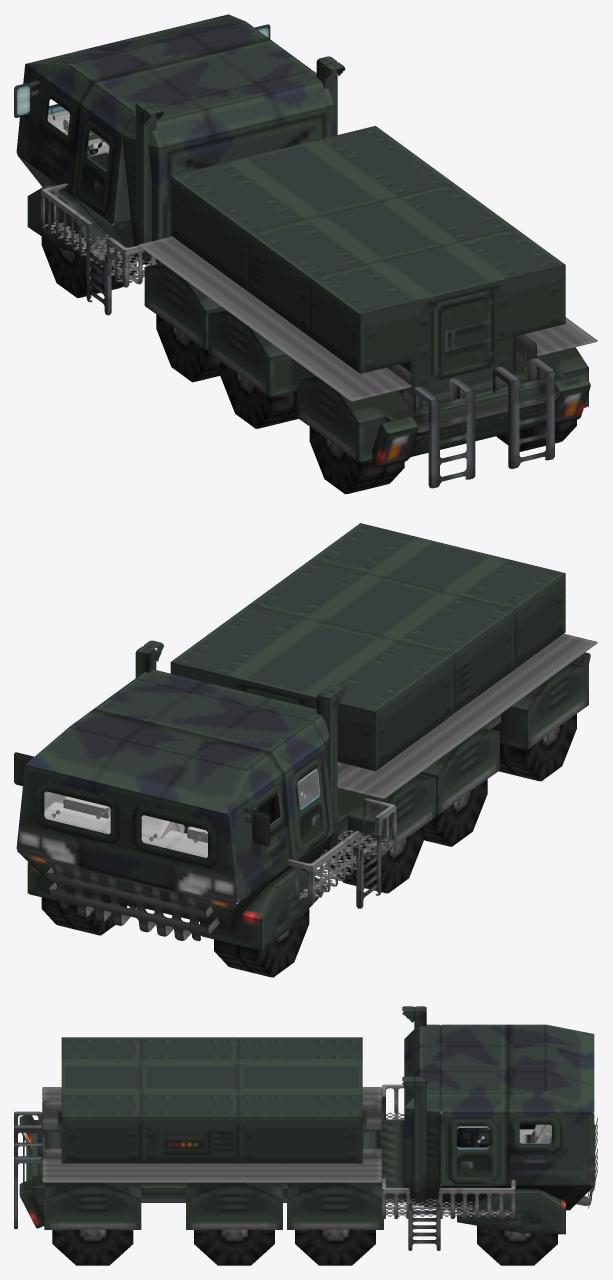
The model's file is armored_truck.obj.
3 views of the same model, one above another, from view 1: azimuth 30°, elevation 25°; view 2: azimuth 150°, elevation 25°; view 3: azimuth 270°, elevation 25° (orthographic). The views are drawn at different scales.
Visible parts, largest first — view 1: cube40, cube76, cube33, cube59, cube60, cube72, cube20, cylinder63, cylinder62, cylinder61, cube22, cube21 (+19 smaller); view 2: cube40, cube76, cube72, cube33, cube18, cylinder63, cylinder70, cylinder61, cube49, cylinder62, cube6, cube60 (+17 smaller); view 3: cube40, cube76, cube72, cube32, cylinder64, cylinder65, cylinder66, cube12, cylinder69, cube60, cylinder54, cylinder51 (+19 smaller).
Boxes of the visible parts, x1,y1,x2,y2 form: cube40: (170,126,565,373); cube76: (26,14,312,133); cube33: (138,236,411,401); cube59: (122,104,335,264); cube60: (123,70,334,148); cube72: (16,64,130,224); cube20: (372,374,590,467); cylinder63: (297,375,410,462); cylinder62: (208,309,305,396); cylinder61: (144,263,224,350); cube22: (413,377,475,488); cube21: (493,358,554,468); cube40: (170,523,565,771); cube76: (25,678,324,813); cube72: (16,743,333,903); cube33: (337,633,597,798); cube18: (47,862,219,940); cylinder63: (491,662,588,749); cylinder70: (200,867,327,950); cylinder61: (337,774,435,860); cube49: (17,834,333,929); cylinder62: (419,727,499,814); cube6: (286,798,396,903); cube60: (136,669,329,742); cube40: (61,1037,362,1163); cube76: (440,1024,594,1112); cube72: (440,1092,594,1185); cube32: (42,1158,381,1182); cylinder64: (44,1182,141,1229); cylinder65: (186,1182,282,1229); cylinder66: (287,1178,383,1229); cube12: (32,1120,404,1202); cylinder69: (457,1189,565,1234); cube60: (404,1024,440,1112); cylinder54: (52,1229,133,1265); cylinder51: (194,1229,274,1265).
Bounding box in the file's own units: 4.84 × 3.83 × 11.3.
Materials: 2 (2 with a texture image).
